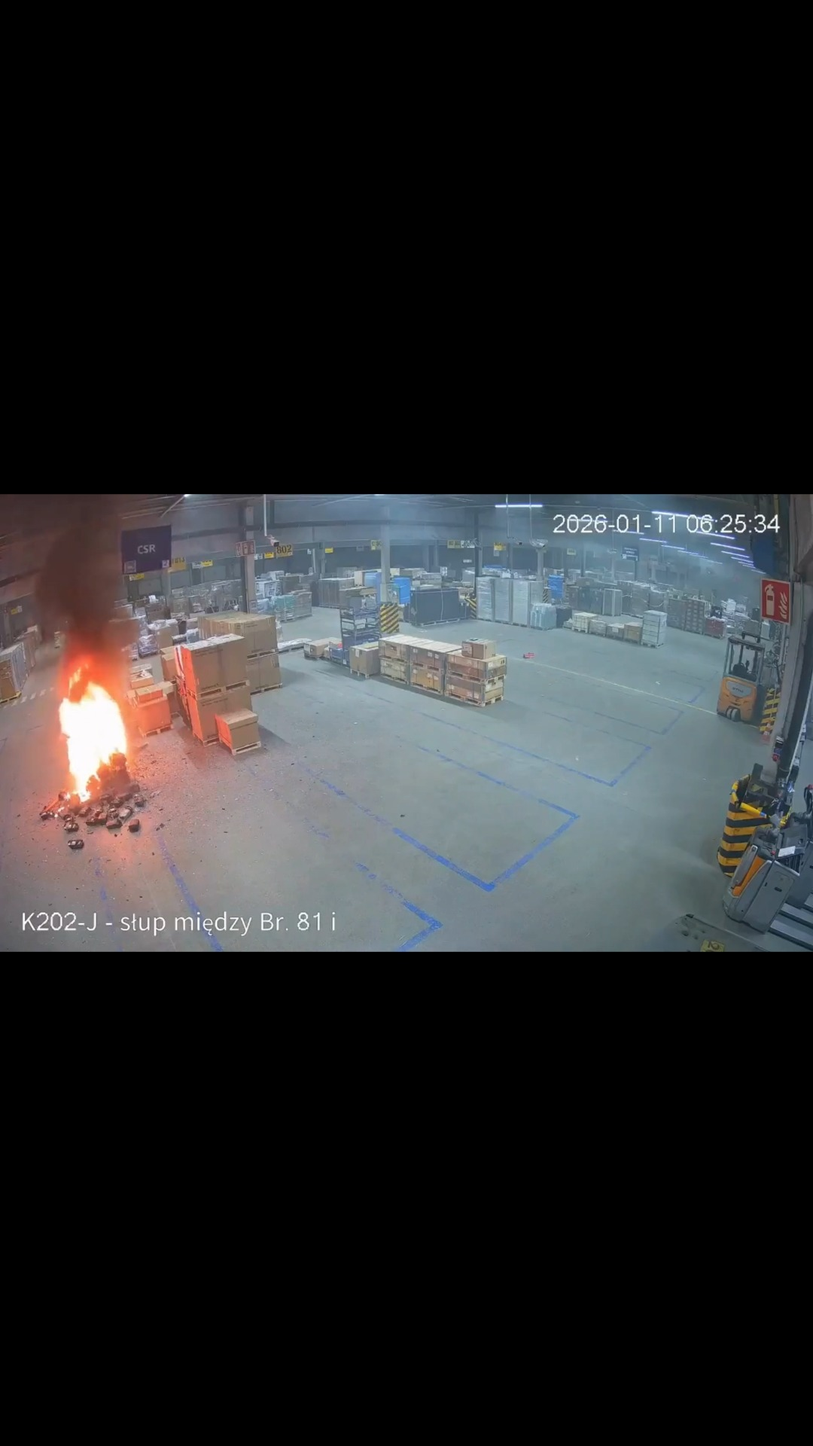fire: (53, 651, 134, 807)
smoke: (0, 495, 144, 684)
